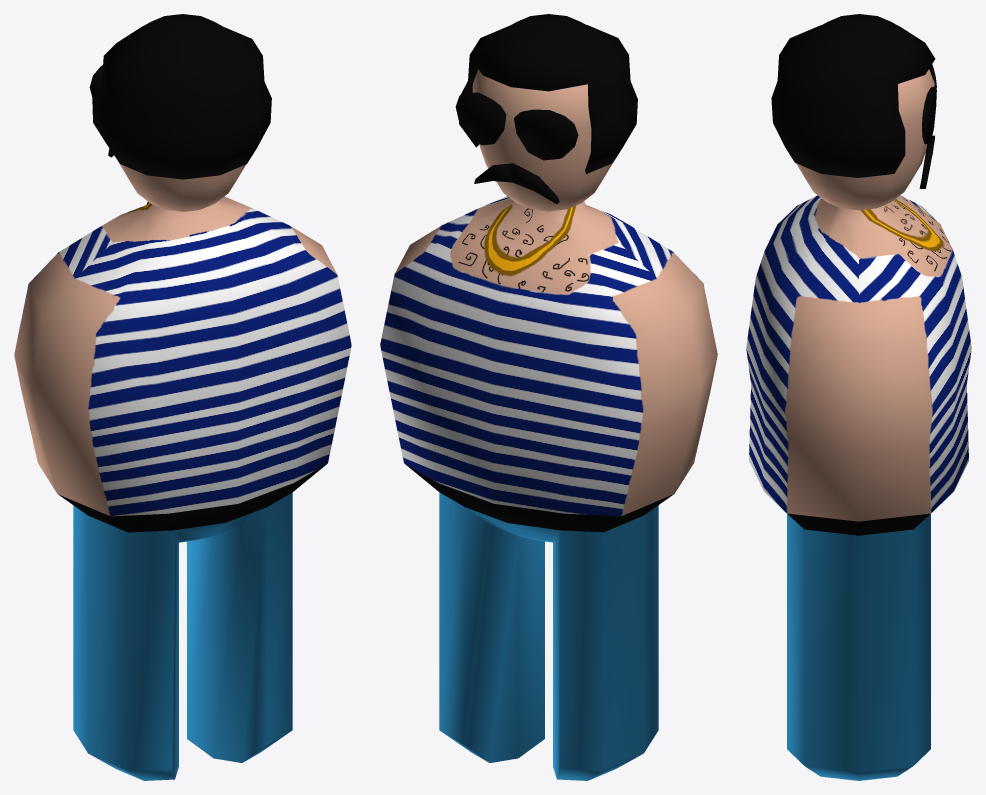
The model's file is lik.fbx.
The picture shows the model from 3 angles, left to right: view 1: azimuth 30°, elevation 25°; view 2: azimuth 150°, elevation 25°; view 3: azimuth 270°, elevation 25°; orthographic projection.
Parts seen in each view (by area): view 1: Lik; view 2: Lik; view 3: Lik.
Boxes of the visible parts, x1,y1,x2,y2 form: Lik: [14, 14, 351, 780]; Lik: [380, 14, 717, 780]; Lik: [746, 14, 971, 780].
Size of the model in its own units: 1432 by 3282 by 925.
